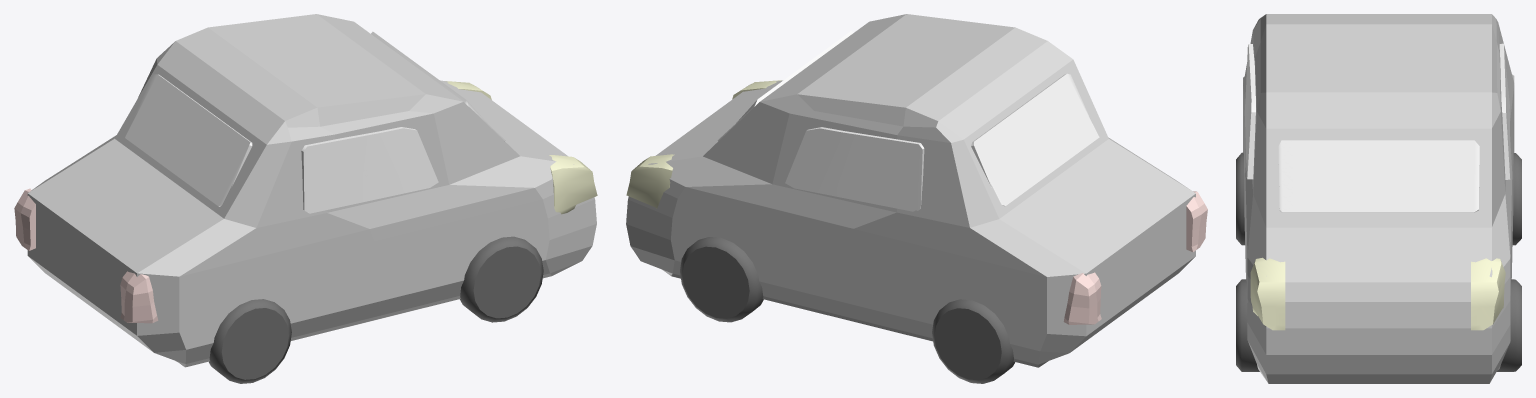
Rendered from CarroBlanco.fbx.
The picture shows the model from 3 angles, left to right: view 1: azimuth 30°, elevation 25°; view 2: azimuth 150°, elevation 25°; view 3: azimuth 270°, elevation 25°; orthographic projection. The views are drawn at different scales.
Parts seen in each view (by area): view 1: pCube1, pCube10, pCube8, pCylinder1, pCylinder2, pCube11, pCube9, pCube6; view 2: pCube1, pCube10, pCube12, pCylinder3, pCylinder4, pCube11, pCube9, pCube6; view 3: pCube1, pCube6, pCube9, pCube8, pCylinder1, pCylinder3, pCube12, pCylinder4, pCylinder2.
Boxes of the visible parts, x1=… form: pCube1: x1=27, y1=14, x2=596, y2=367; pCube10: x1=125, y1=74, x2=252, y2=206; pCube8: x1=301, y1=127, x2=438, y2=213; pCylinder1: x1=460, y1=236, x2=543, y2=322; pCylinder2: x1=209, y1=299, x2=291, y2=383; pCube11: x1=14, y1=188, x2=158, y2=323; pCube9: x1=445, y1=81, x2=597, y2=214; pCube6: x1=371, y1=31, x2=505, y2=140; pCube1: x1=626, y1=14, x2=1195, y2=367; pCube10: x1=971, y1=73, x2=1099, y2=206; pCube12: x1=785, y1=127, x2=924, y2=211; pCylinder3: x1=680, y1=237, x2=763, y2=322; pCylinder4: x1=932, y1=299, x2=1015, y2=383; pCube11: x1=1063, y1=191, x2=1207, y2=324; pCube9: x1=626, y1=80, x2=781, y2=208; pCube6: x1=717, y1=31, x2=853, y2=141; pCube1: x1=1243, y1=14, x2=1514, y2=383; pCube6: x1=1278, y1=140, x2=1479, y2=212; pCube9: x1=1250, y1=257, x2=1505, y2=330; pCube8: x1=1244, y1=44, x2=1255, y2=179; pCylinder1: x1=1236, y1=279, x2=1259, y2=371; pCylinder3: x1=1496, y1=279, x2=1521, y2=371; pCube12: x1=1499, y1=43, x2=1510, y2=179; pCylinder4: x1=1512, y1=153, x2=1521, y2=245; pCylinder2: x1=1236, y1=152, x2=1244, y2=245.
Bounding box in the file's own units: 21.67 × 10.94 × 11.09.
